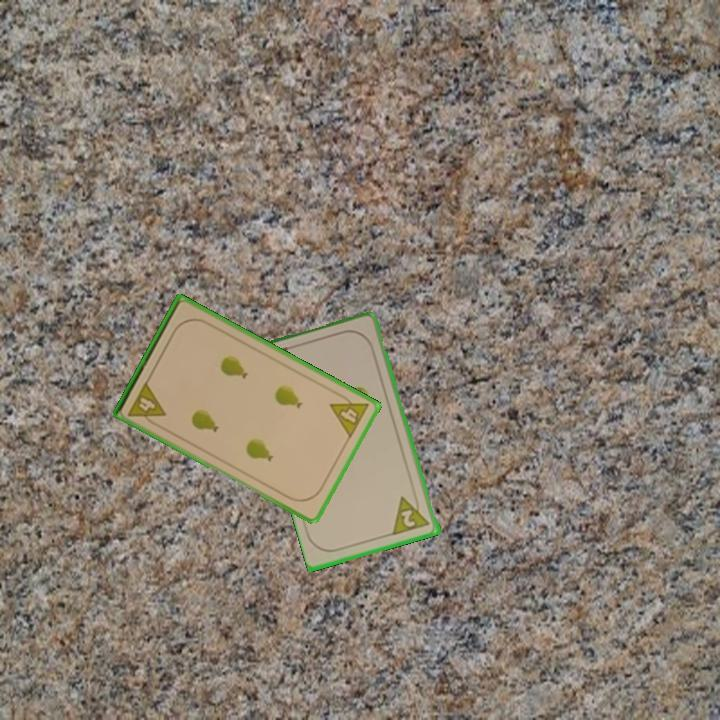2p: (390, 490, 433, 538)
4p: (326, 388, 372, 441), (124, 378, 169, 429)
